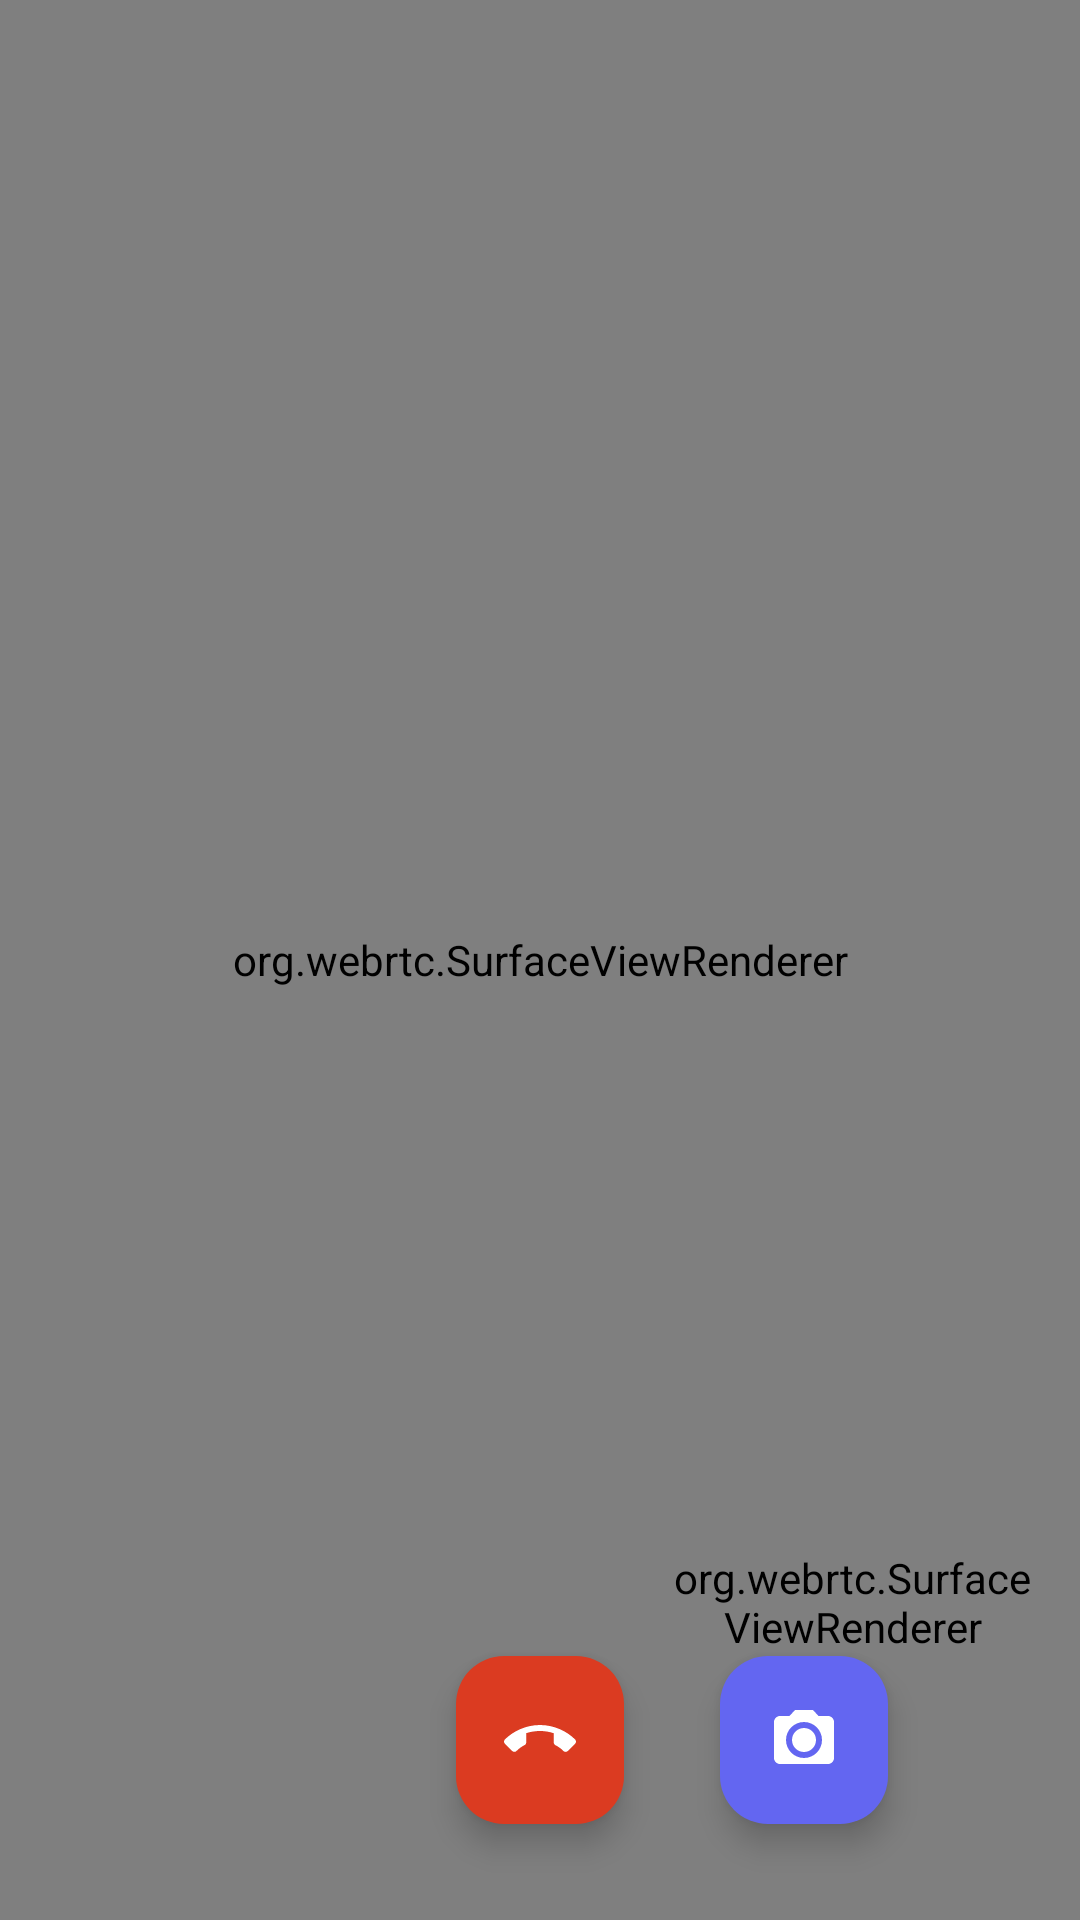

Icons on this 1080px×1920px Android screen, each with the point to tap as (x,y):
call end: (540,1740)
switch camera: (804,1740)
